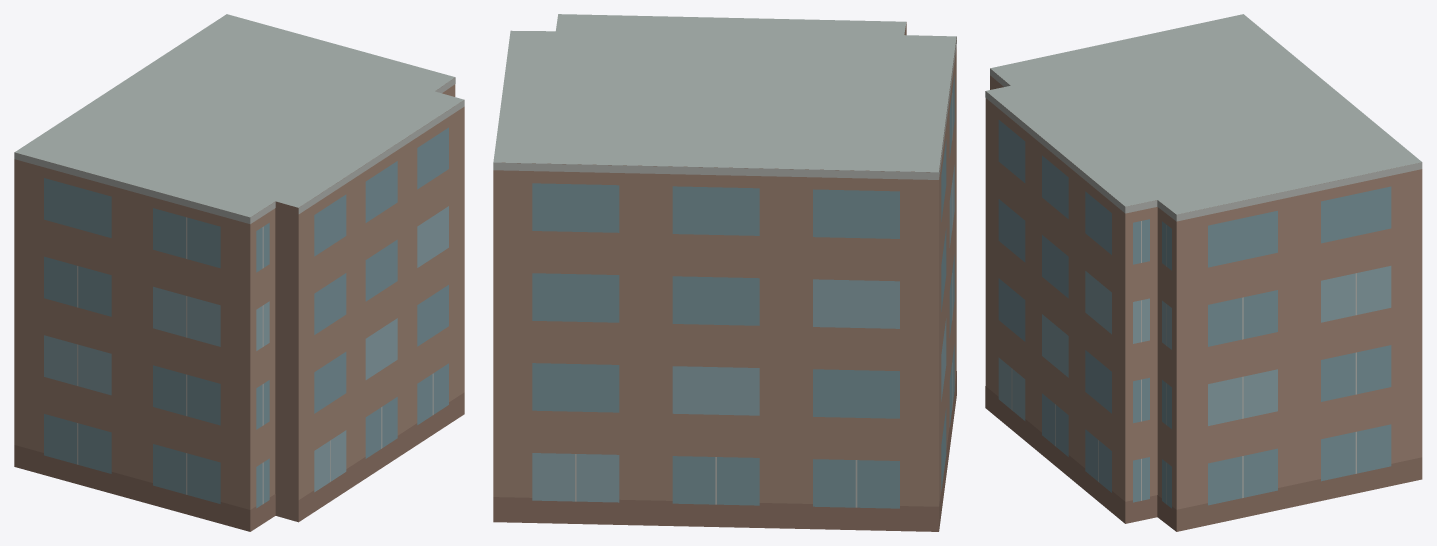
File: survey-upis-32834139.glb
3 views of the same model, side by side, from view 1: azimuth 30°, elevation 25°; view 2: azimuth 150°, elevation 25°; view 3: azimuth 270°, elevation 25° (orthographic). The views are drawn at different scales.
Visible parts, largest first — view 1: survey-upis-32834139.tmp; view 2: survey-upis-32834139.tmp; view 3: survey-upis-32834139.tmp.
Boxes of the visible parts, left/top/right/bottom form: survey-upis-32834139.tmp: left=14, top=14, right=464, bottom=531; survey-upis-32834139.tmp: left=493, top=14, right=956, bottom=531; survey-upis-32834139.tmp: left=985, top=14, right=1422, bottom=531.
Size of the model in its own units: 15.37 by 11.32 by 14.14.
